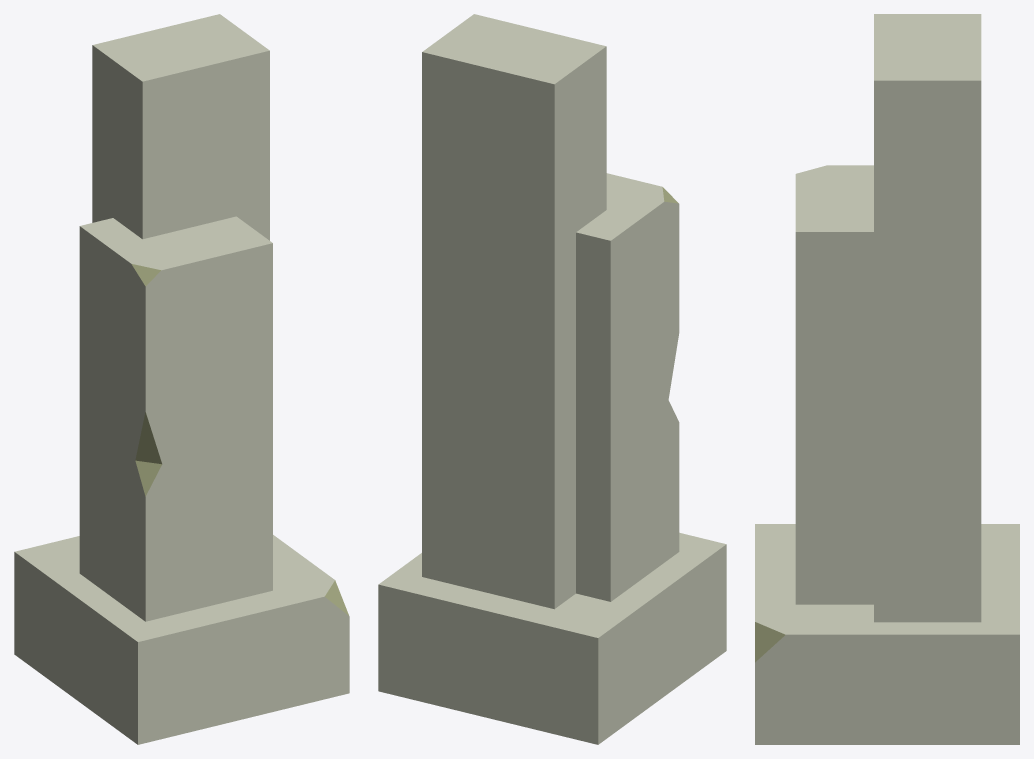
File: pillar.fbx
3 views of the same model, side by side, from view 1: azimuth 30°, elevation 25°; view 2: azimuth 150°, elevation 25°; view 3: azimuth 270°, elevation 25° (orthographic). The views are drawn at different scales.
Visible parts, largest first — view 1: pillar; view 2: pillar; view 3: pillar.
Part boxes in pixels (x1,y1,x2,y2): pillar: [14, 14, 349, 744]; pillar: [378, 14, 726, 744]; pillar: [755, 14, 1019, 744].
Bounding box in the file's own units: 3.67 × 3.71 × 10.07.
